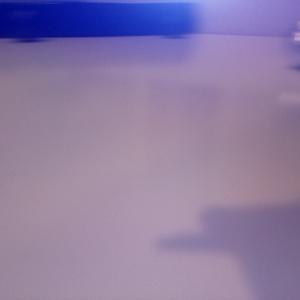alive_ball: (287, 20, 300, 68)
dead_ball: (12, 9, 44, 39), (159, 8, 187, 35)
